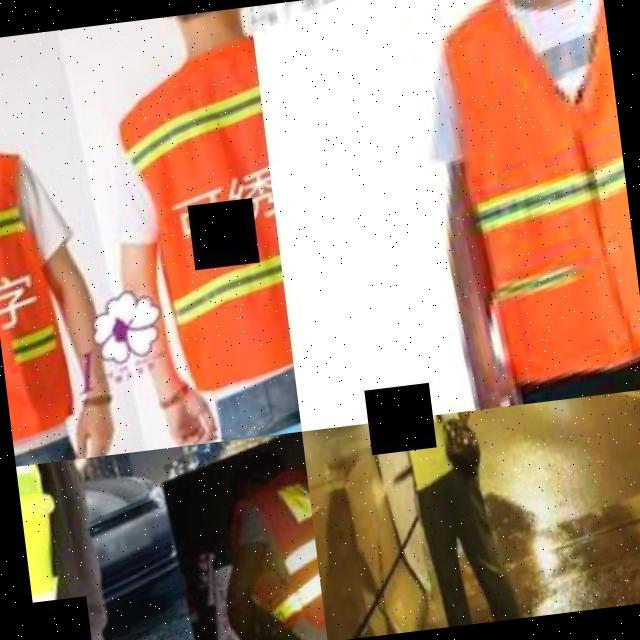vest: (408, 0, 640, 411), (100, 29, 298, 419), (0, 131, 113, 466), (15, 458, 100, 640), (240, 463, 327, 640), (379, 408, 502, 505)
